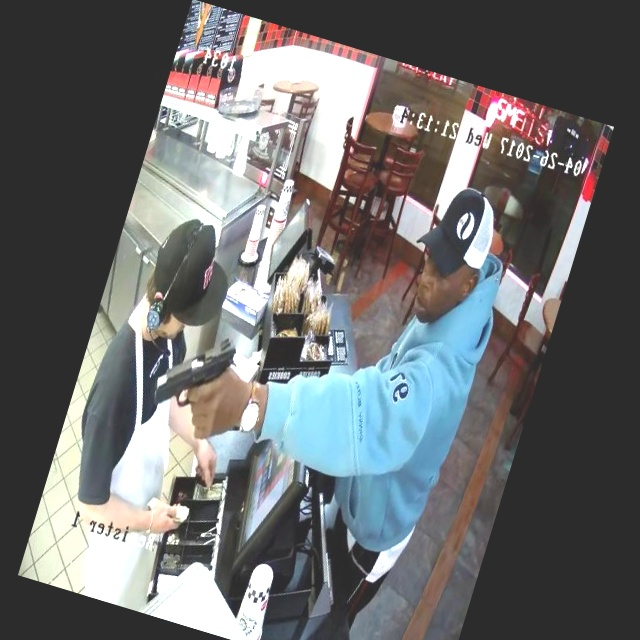gun: (133, 307, 258, 436)
